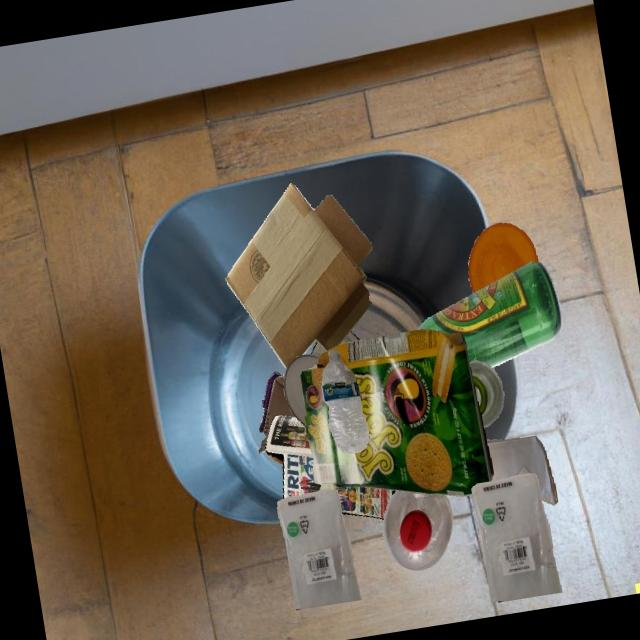cardboard: (301, 329, 493, 496), (226, 183, 373, 368), (258, 371, 296, 454)
glass: (418, 262, 562, 368), (284, 352, 322, 427), (469, 360, 504, 427), (340, 331, 360, 345), (266, 452, 283, 465), (311, 341, 326, 354)
paper: (265, 415, 393, 519), (486, 436, 558, 505)
plastic: (472, 474, 562, 602), (277, 489, 362, 610), (383, 490, 453, 571), (469, 223, 539, 293), (322, 349, 369, 453)
